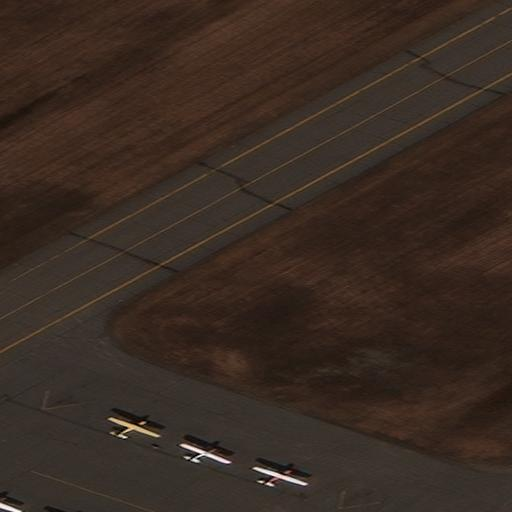Small Civil Transport: (109, 416, 162, 437), (254, 465, 308, 485), (182, 442, 232, 462), (0, 496, 22, 511)
